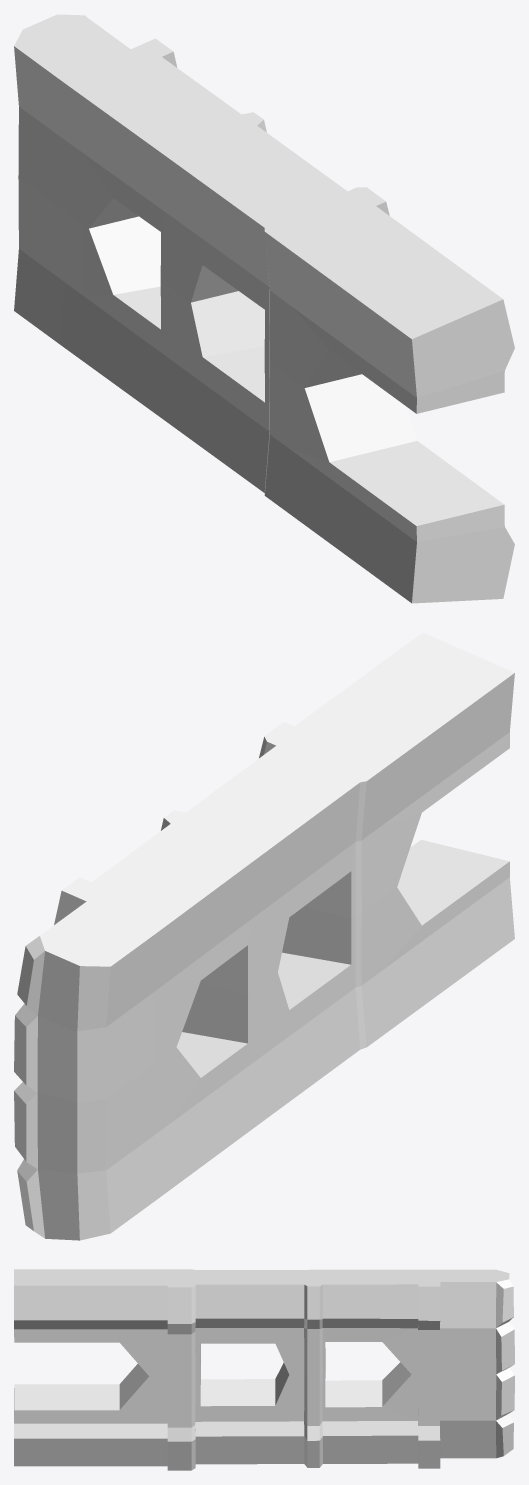
Rendered from venice_col_0.fbx.
The picture shows the model from 3 angles, top to bottom: view 1: azimuth 30°, elevation 25°; view 2: azimuth 150°, elevation 25°; view 3: azimuth 270°, elevation 25°; orthographic projection. The views are drawn at different scales.
Visible parts, largest first — view 1: Cube.367; view 2: Cube.367; view 3: Cube.367.
Part boxes in pixels (x1,y1,x2,y2): Cube.367: (14,14,514,603); Cube.367: (14,632,514,1240); Cube.367: (14,1269,514,1470).
Size of the model in its own units: 536 by 1359 by 3368.
